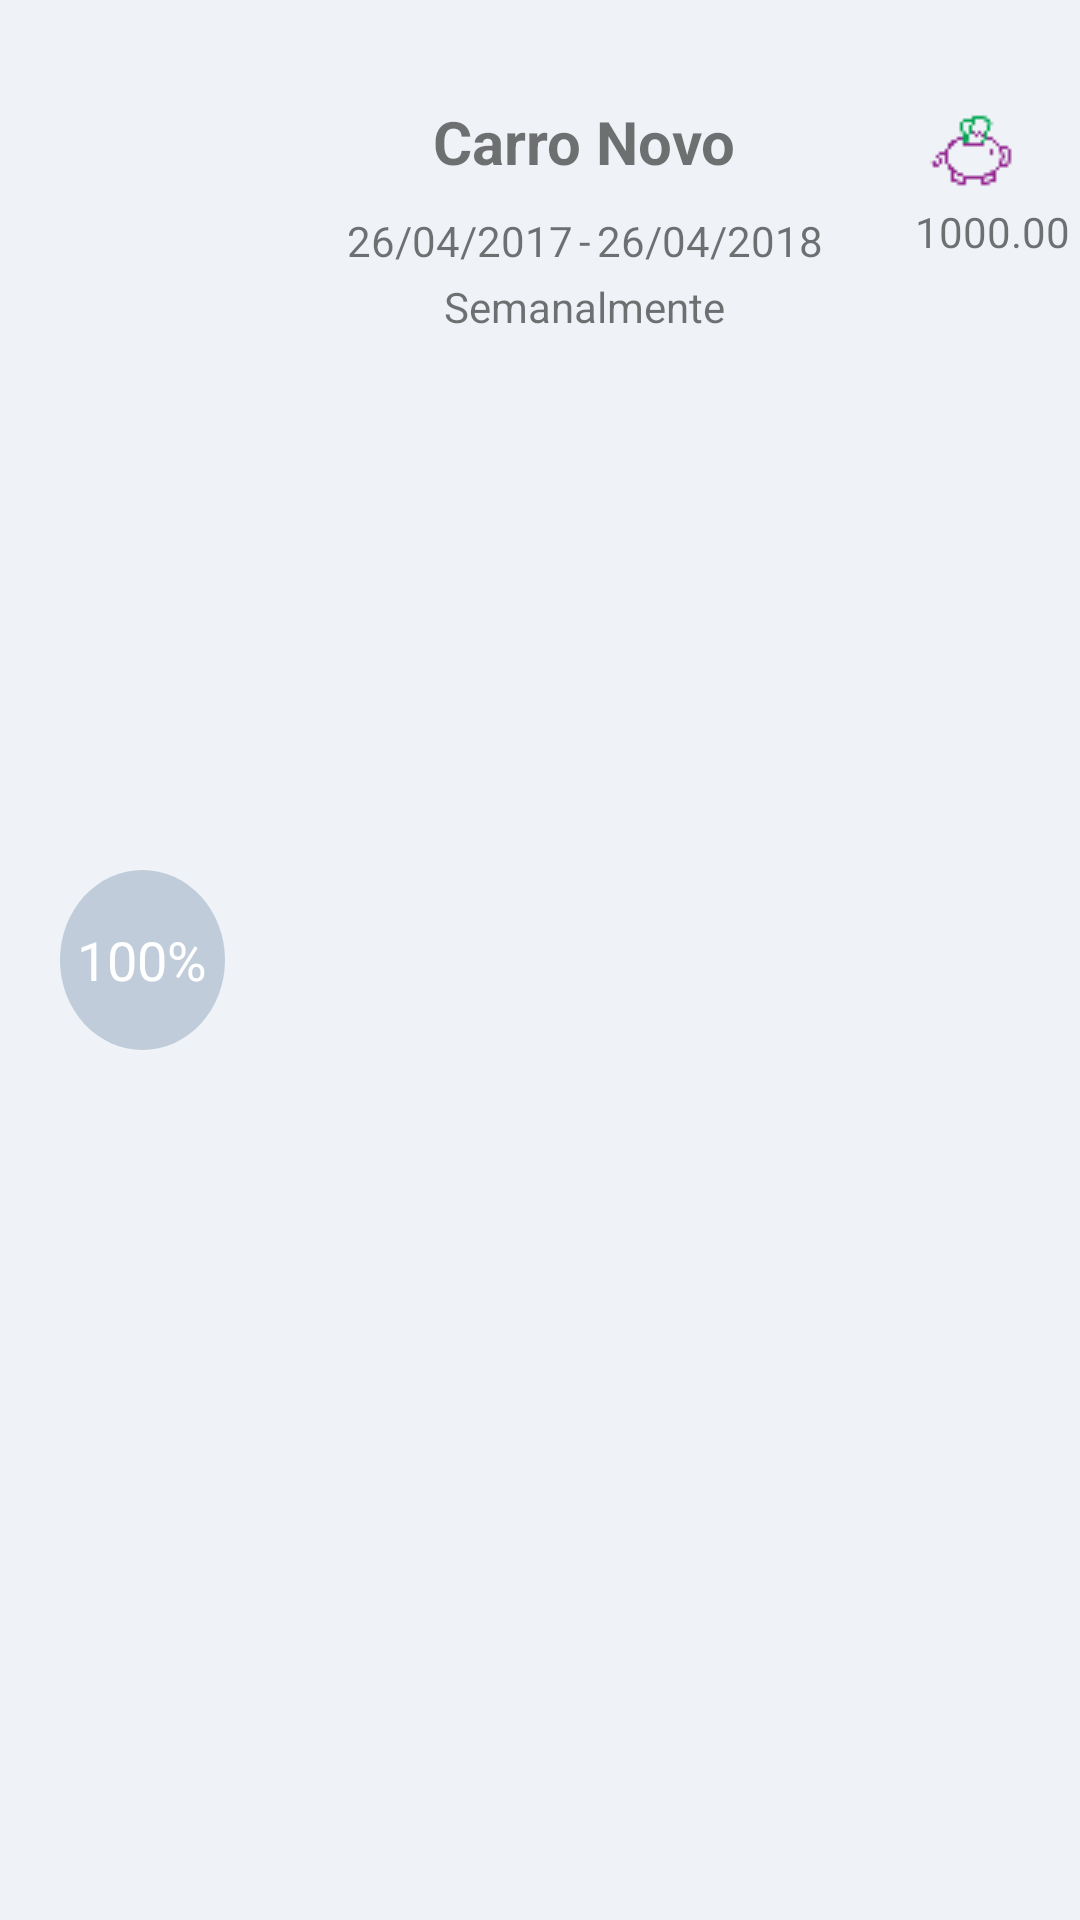

Screen size 1080px x 1920px. Icon name, then its box in pixels as box=[x1, y1, x2, y2]:
porco: box=[930, 115, 1012, 186]
